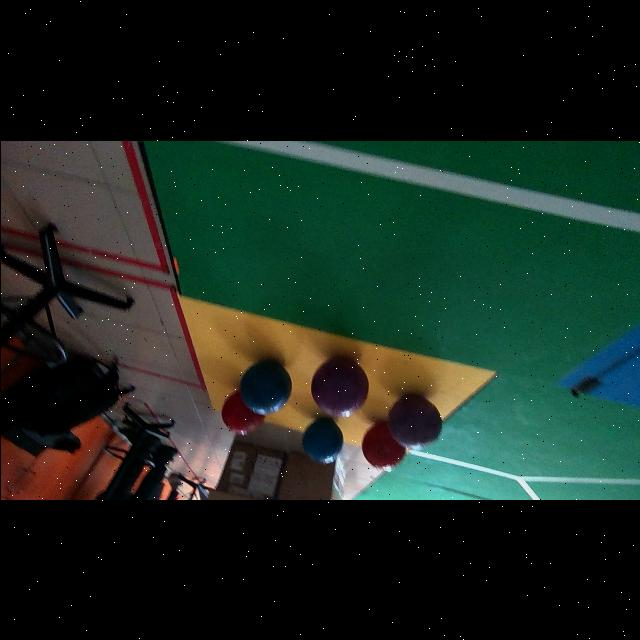B: (238, 362, 290, 415), (302, 418, 342, 463)
P: (310, 357, 367, 417), (386, 394, 441, 451)
R: (361, 423, 405, 471), (221, 392, 264, 436)
